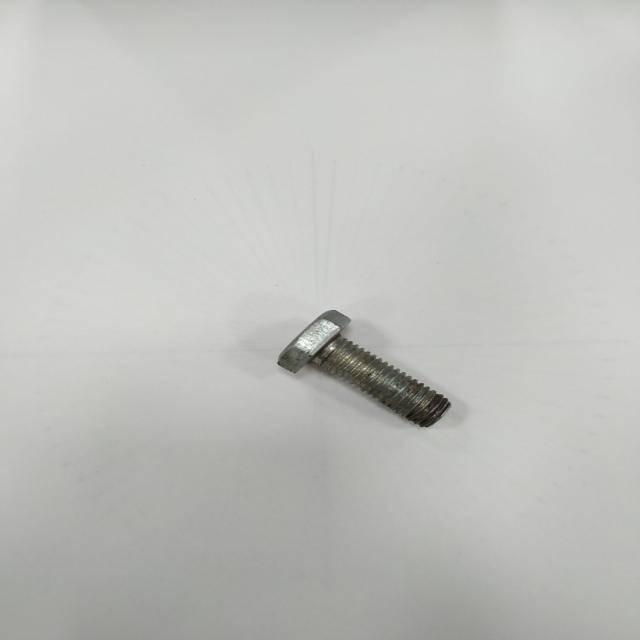Bolt: (277, 310, 450, 427)
